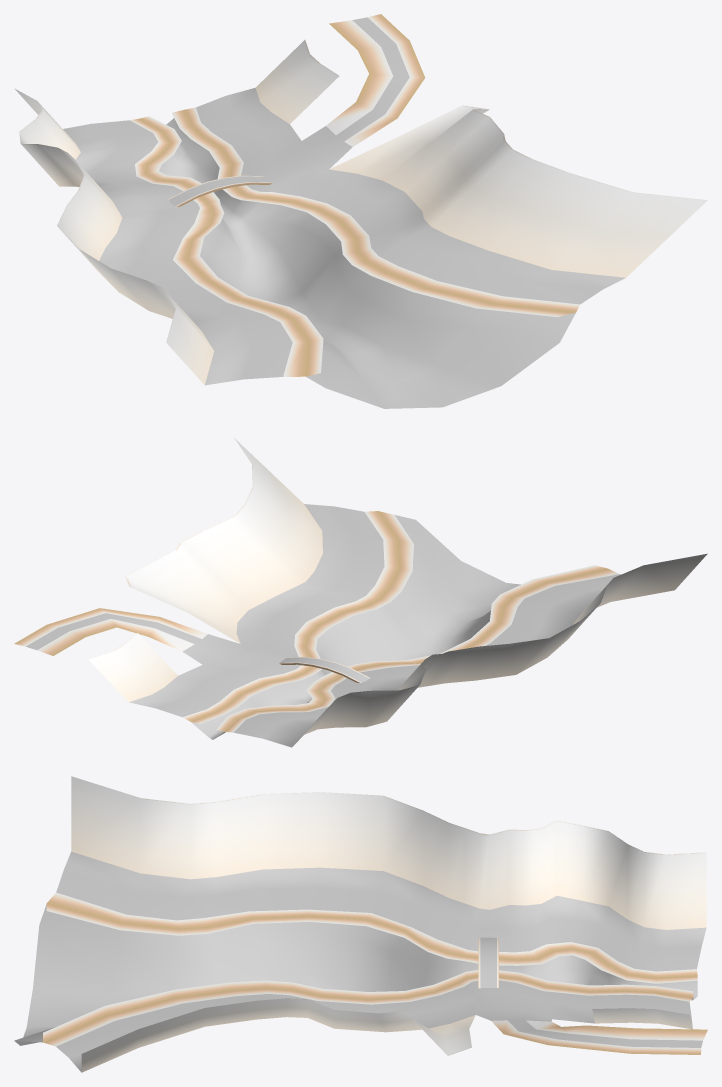
Rendered from Lake.fbx.
3 views of the same model, one above another, from view 1: azimuth 30°, elevation 25°; view 2: azimuth 150°, elevation 25°; view 3: azimuth 270°, elevation 25° (orthographic). The views are drawn at different scales.
Visible parts, largest first — view 1: Land, LakeBed, Shoreline; view 2: Land, LakeBed, Shoreline; view 3: Land, LakeBed, Shoreline.
Part boxes in pixels (x1,y1,x2,y2): Land: (14, 14, 707, 385); LakeBed: (159, 118, 575, 408); Shoreline: (139, 110, 575, 376); Land: (14, 438, 707, 747); LakeBed: (190, 513, 520, 739); Shoreline: (191, 511, 607, 731); Land: (43, 776, 707, 1072); LakeBed: (14, 904, 697, 1045); Shoreline: (43, 903, 697, 1042).
Size of what is drawn, in the model's own units: 336 by 71.58 by 347.
Materials: 2 (1 with a texture image).
